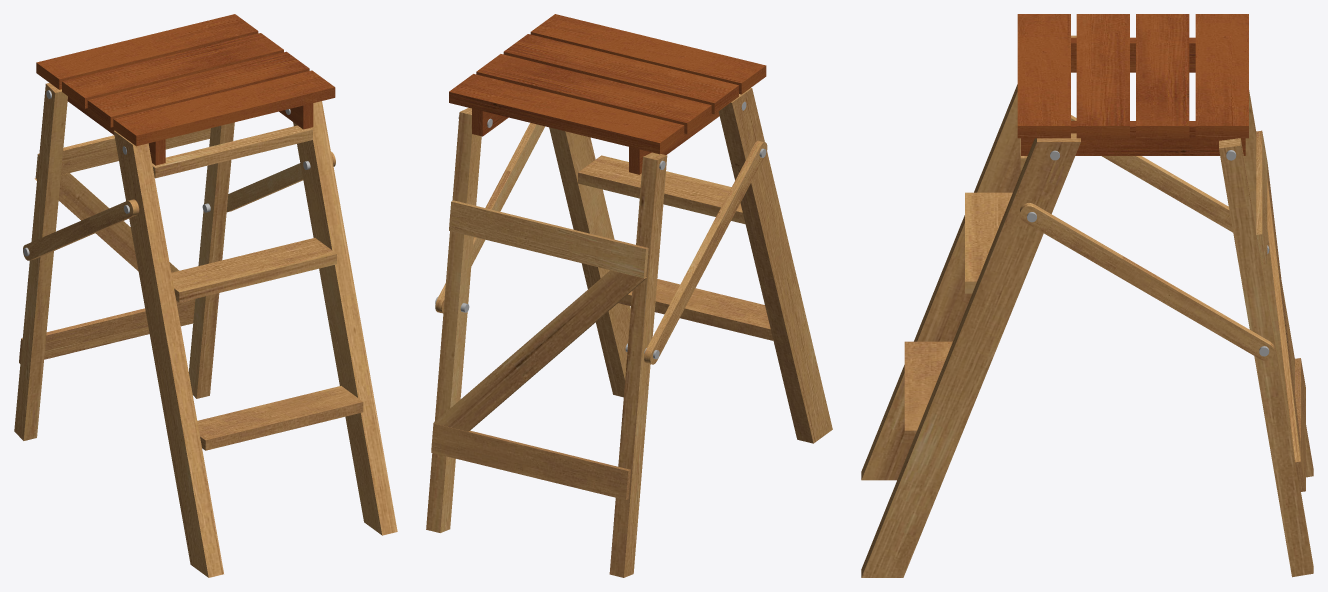
Rendered from escada_pintor.glb.
3 views of the same model, side by side, from view 1: azimuth 30°, elevation 25°; view 2: azimuth 150°, elevation 25°; view 3: azimuth 270°, elevation 25° (orthographic). The views are drawn at different scales.
Parts seen in each view (by area): view 1: Object_4.001, Object_2; view 2: Object_4.001, Object_2; view 3: Object_4.001, Object_2.
Part boxes in pixels (x1,y1,x2,y2): Object_4.001: [14, 83, 397, 577]; Object_2: [36, 14, 335, 165]; Object_4.001: [426, 88, 832, 577]; Object_2: [449, 14, 766, 174]; Object_4.001: [861, 35, 1313, 577]; Object_2: [1017, 14, 1248, 155].
Size of the model in its own units: 0.5507 by 1 by 0.901.
3 materials, 2 textured.
